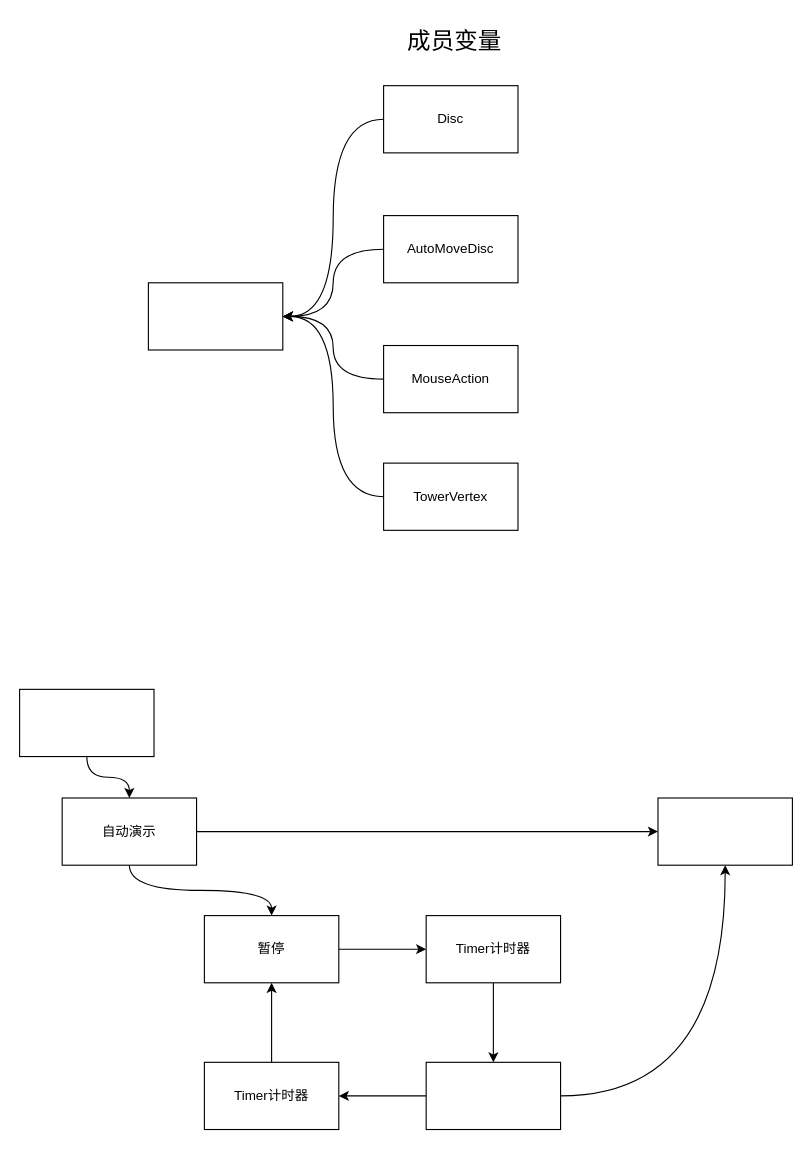
Image size: 812x1149. Some labels were removed from this diagram. The shapes that lost their labels are listed below. From the top down, each one's centre as x and y in pixels, then its label:
At point (215, 316): "Tower".
At point (86, 722): "开始/重置".
At point (724, 831): "结束".
At point (493, 1095): "继续".
